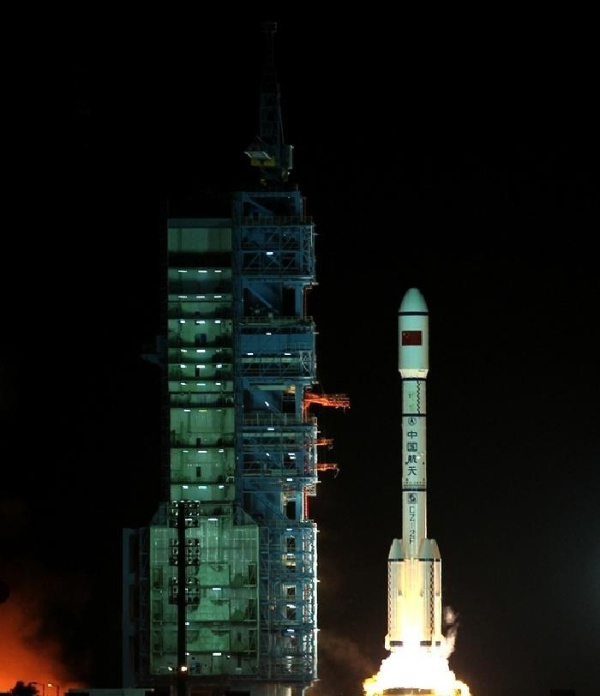text: (406, 431, 416, 477), (409, 506, 416, 546), (417, 431, 420, 477)
